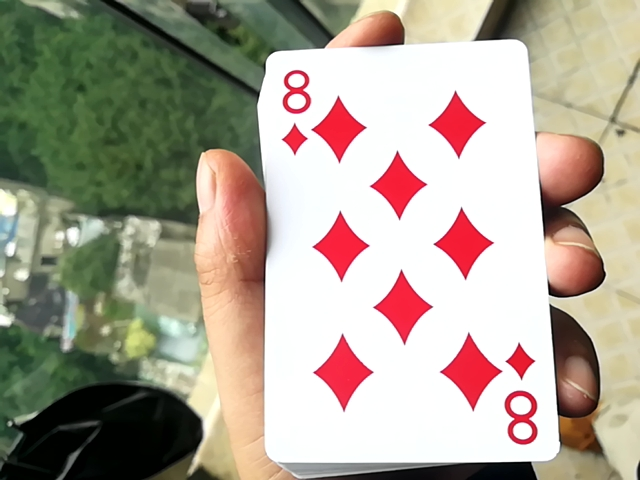fk 8: (245, 45, 555, 461)
